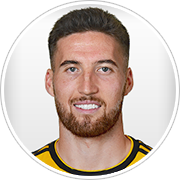smile: (71, 100, 105, 115)
